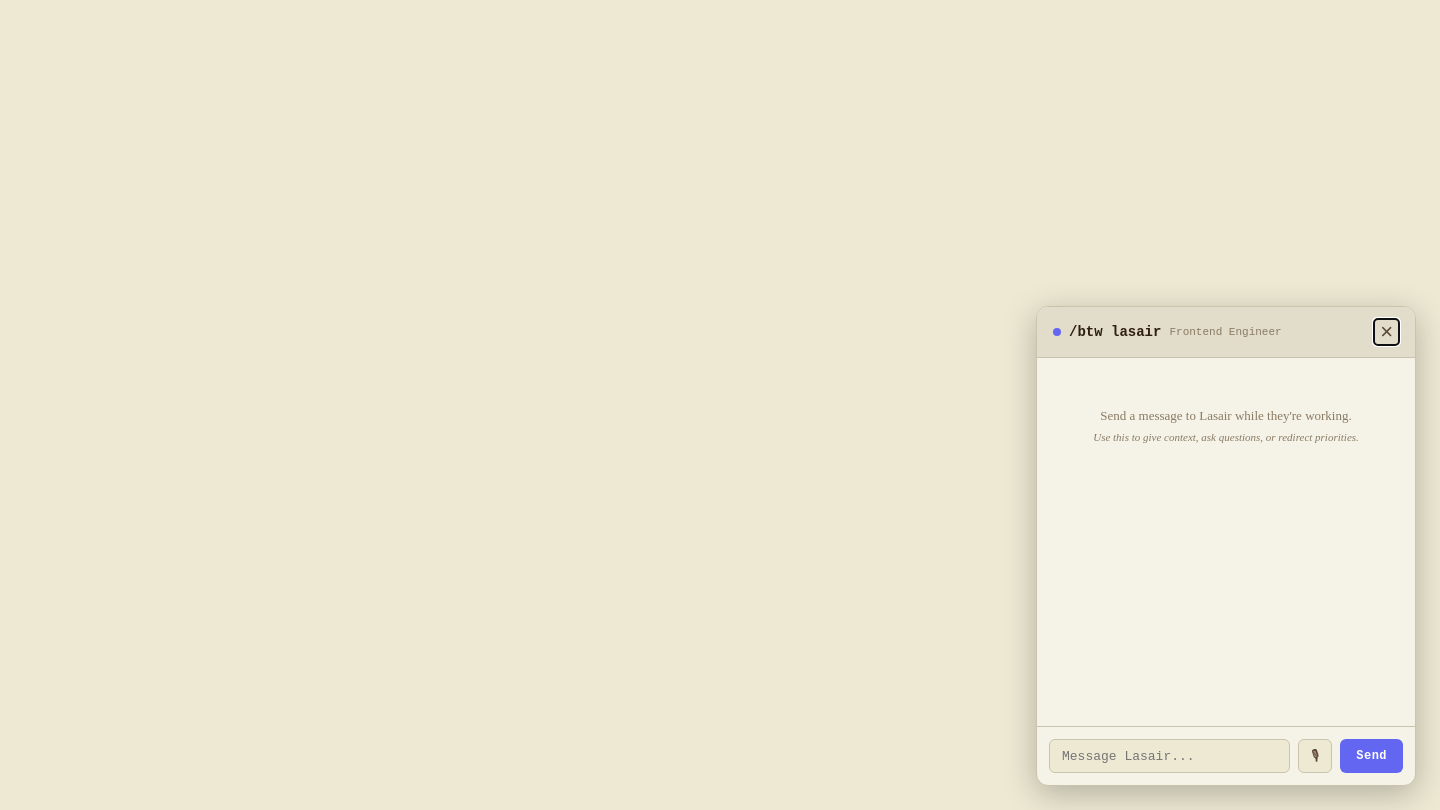
Test case: voice input › keeps the mic toggle active when recognition naturally ends
The width and height of the screenshot is (1440, 810).
Click the button named "Start voice input".
click(1315, 756)  # box 1298,739 -> 1332,773
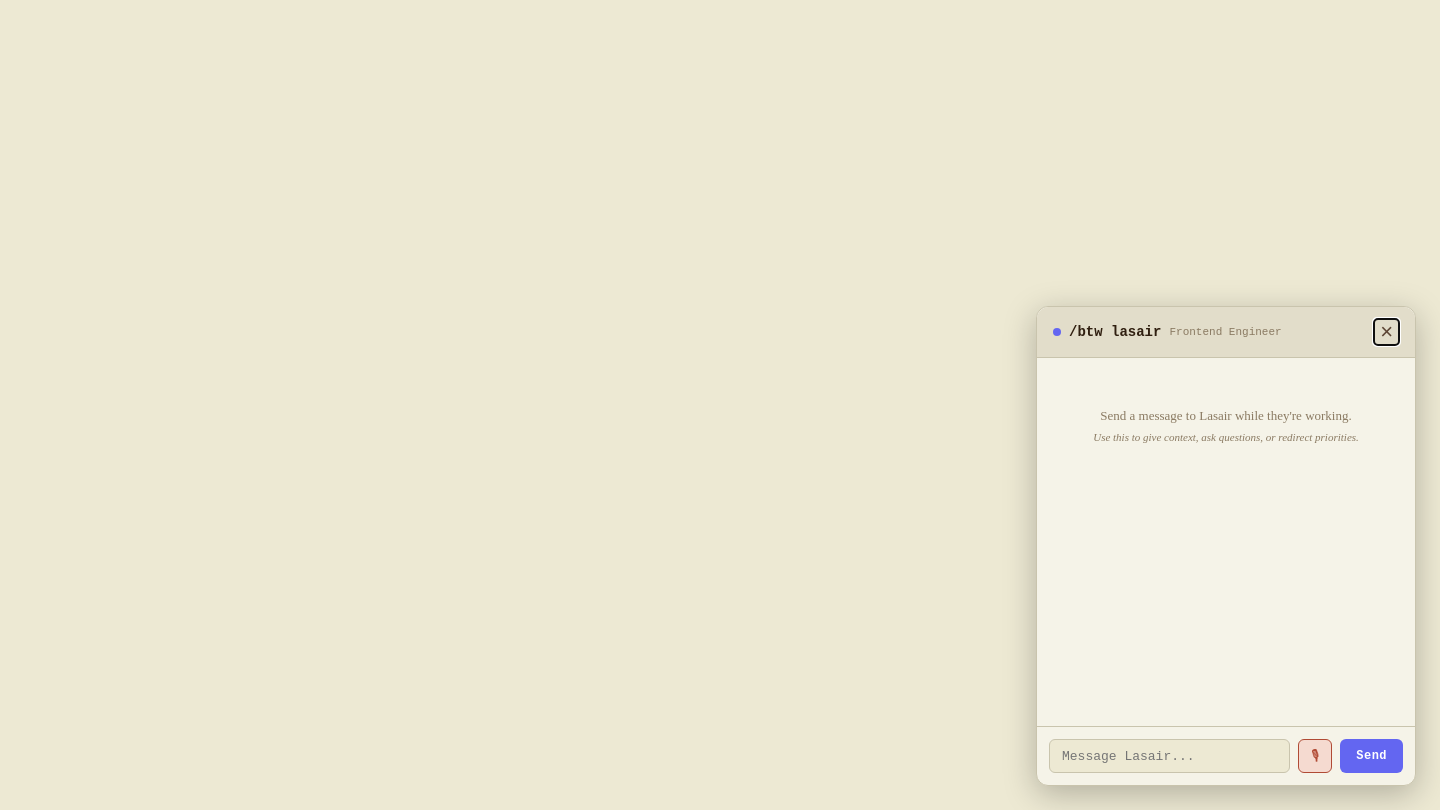
Now the button named "Stop voice input" is shown, box 1298,739 -> 1332,773
